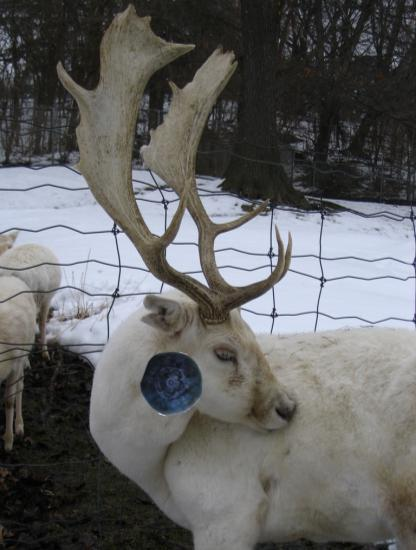Blueberry: (140, 351, 206, 417)
